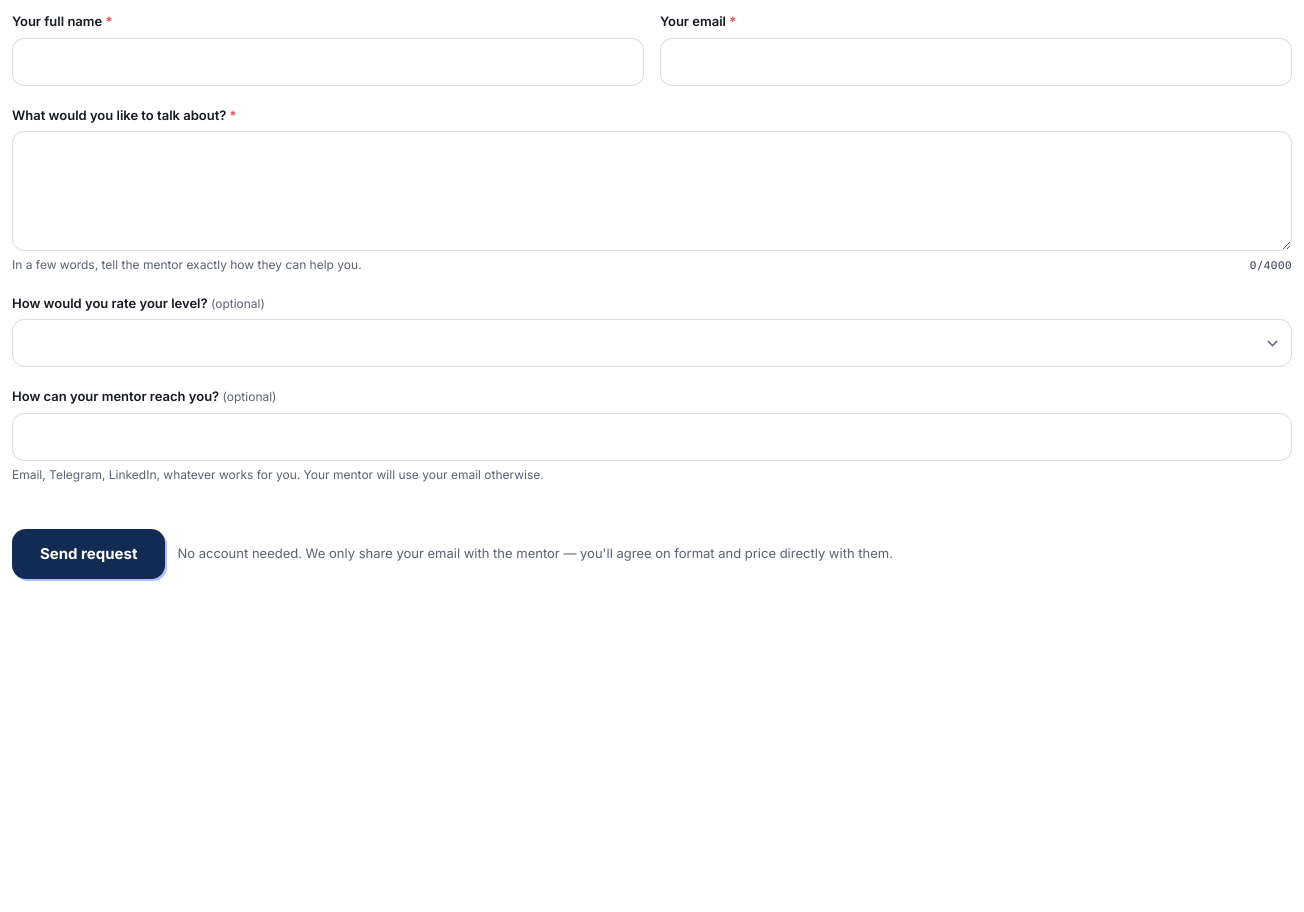
Scenario: ContactMentorForm › shows validation error for empty required fields on submit
Click the button "Send request": x=89, y=554 [12,528,165,578]
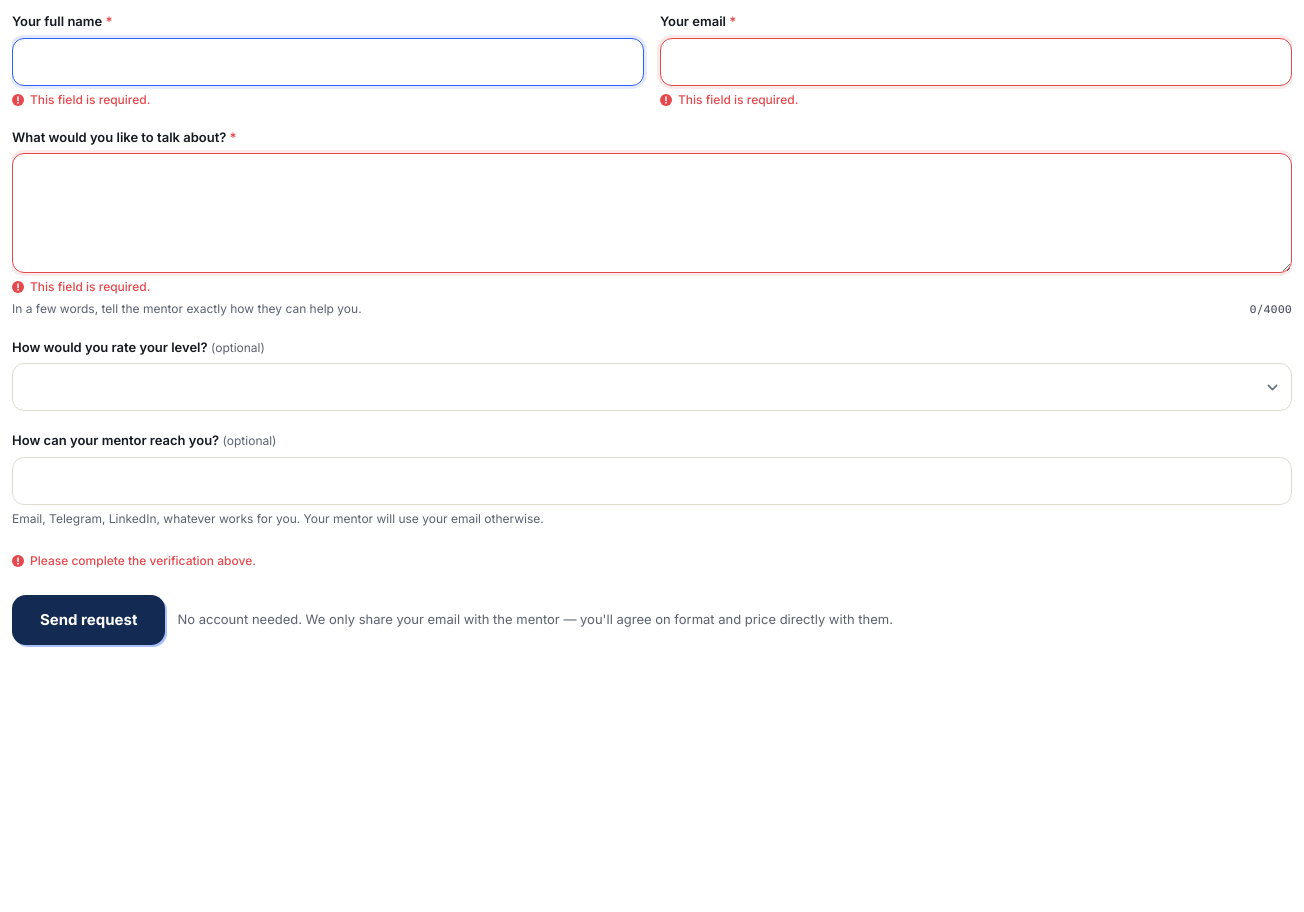
Check: the text "This field is required." below "Your full name" is shown, box [30,92,150,106]
